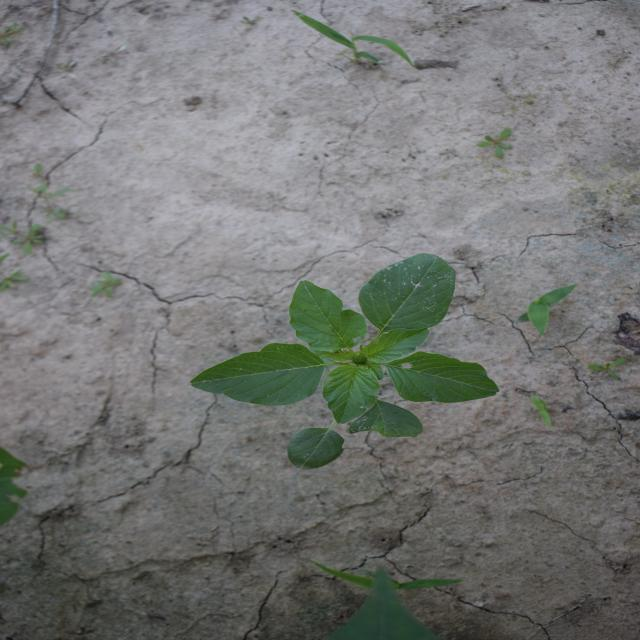PalmerAmaranth: (189, 252, 502, 471)
